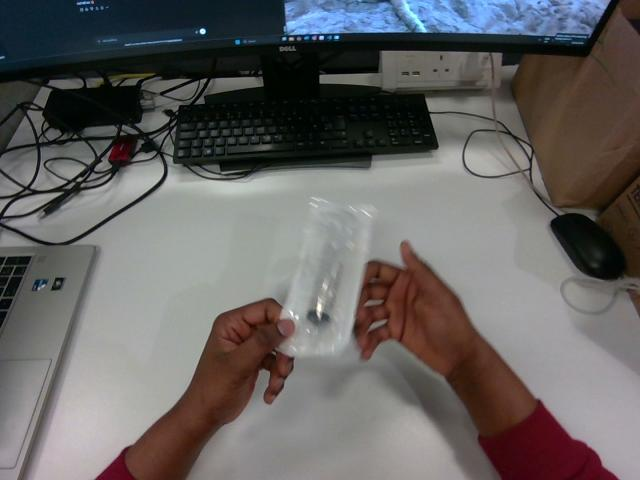syringe: (279, 199, 374, 356)
